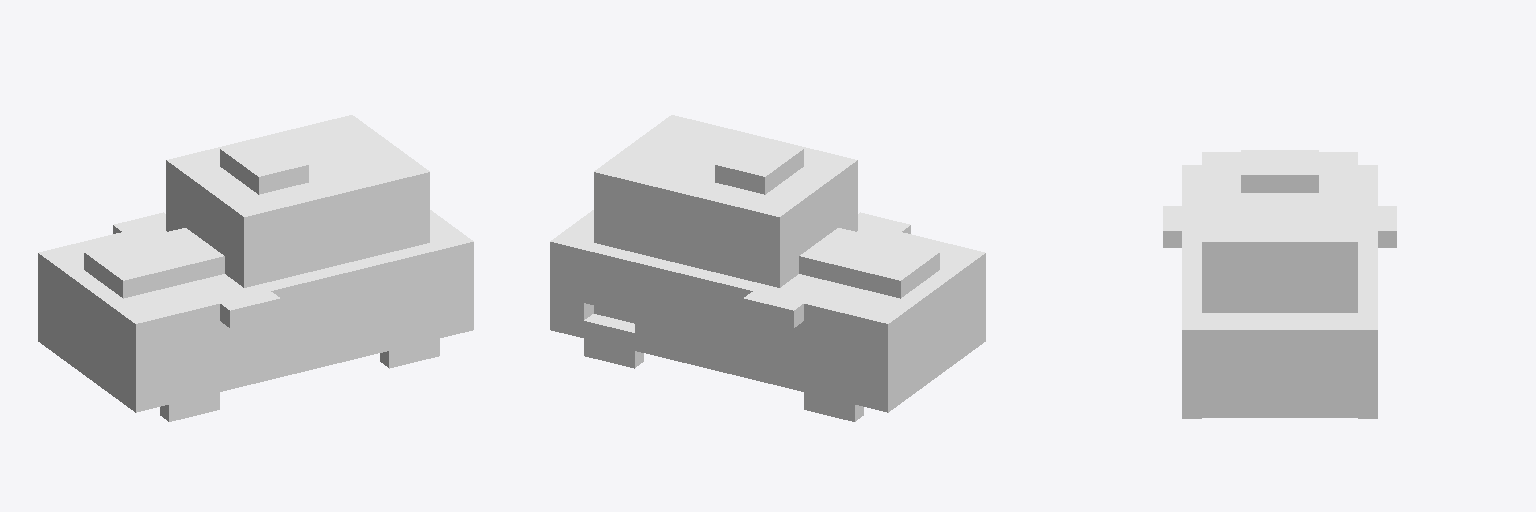
File: puppleCar.obj
The picture shows the model from 3 angles: view 1: azimuth 30°, elevation 25°; view 2: azimuth 150°, elevation 25°; view 3: azimuth 270°, elevation 25°; orthographic projection.
Visible parts, largest first — view 1: object 1; view 2: object 1; view 3: object 1.
Boxes of the visible parts, x1=… form: object 1: x1=38, y1=115, x2=473, y2=421; object 1: x1=550, y1=115, x2=985, y2=421; object 1: x1=1163, y1=150, x2=1396, y2=418.
Bounding box in the file's own units: 2 × 1.1 × 1.2.